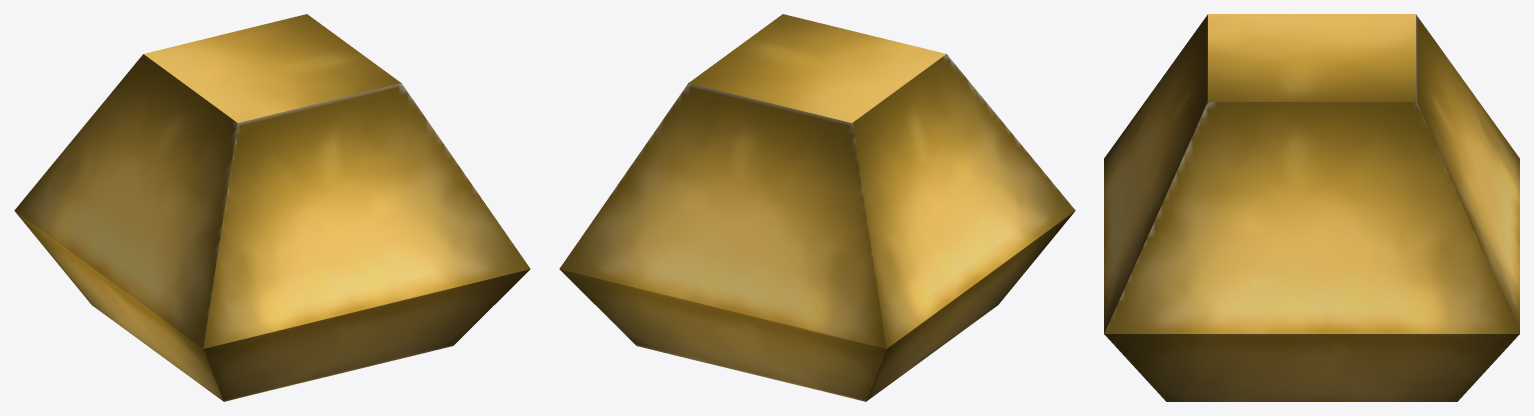
The model's file is Lamp.fbx.
3 renders of one model, left to right at view 1: azimuth 30°, elevation 25°; view 2: azimuth 150°, elevation 25°; view 3: azimuth 270°, elevation 25°, orthographic. The views are drawn at different scales.
Visible parts, largest first — view 1: Lamp; view 2: Lamp; view 3: Lamp.
Part boxes in pixels (box(x1,y1,x2,y2)): Lamp: box(14, 14, 530, 401); Lamp: box(559, 14, 1075, 401); Lamp: box(1104, 14, 1519, 401).
Size of the model in its own units: 40 by 30 by 40.
